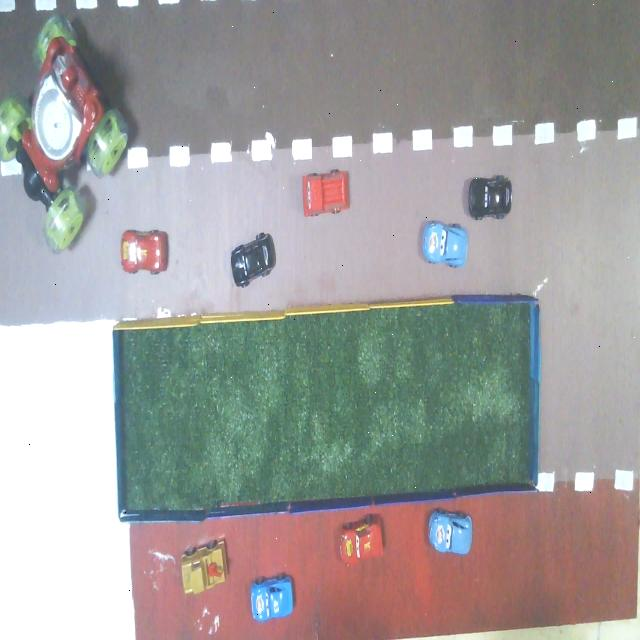emergency car: (0, 15, 128, 251)
small cars: (182, 540, 226, 594), (231, 233, 275, 287), (303, 169, 349, 216), (340, 515, 382, 565), (121, 230, 168, 274), (423, 222, 468, 267), (251, 574, 293, 621), (429, 510, 472, 554), (469, 176, 512, 219)
